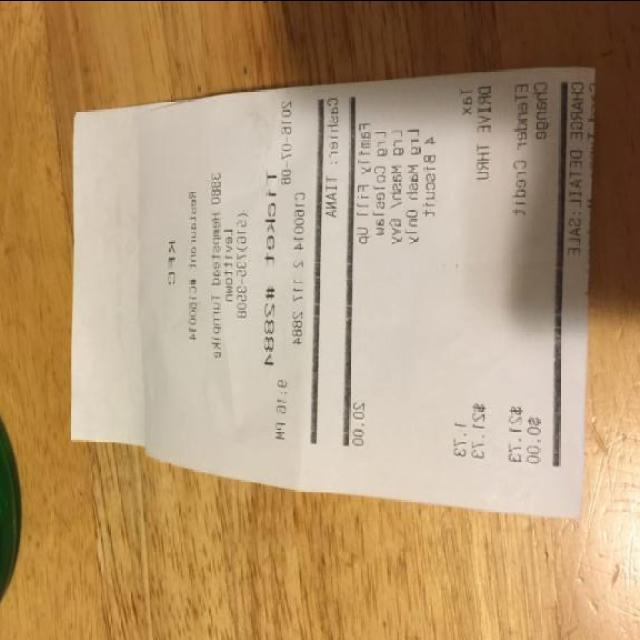kertas: (63, 56, 594, 517)
